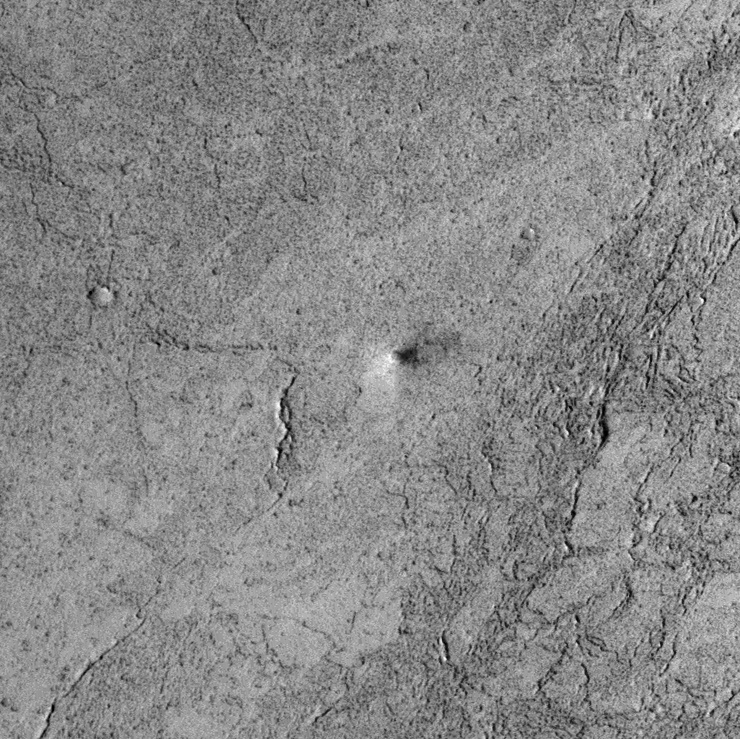dust_devil: (380, 344, 426, 376)
